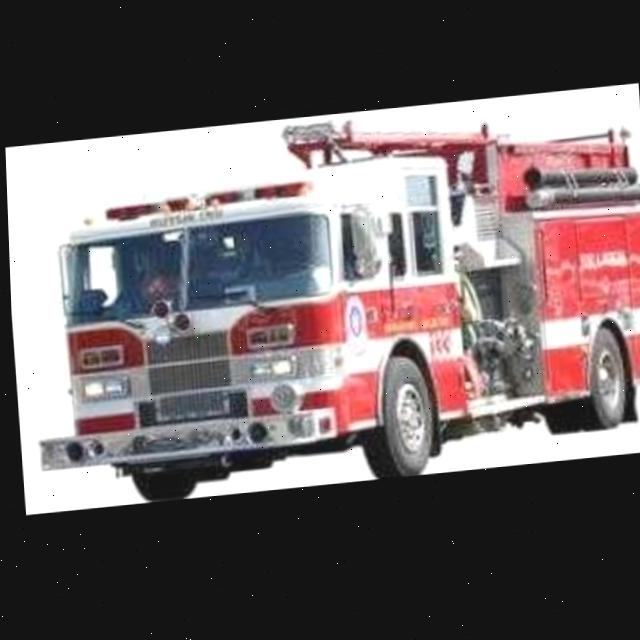emergency: (14, 96, 640, 513)
